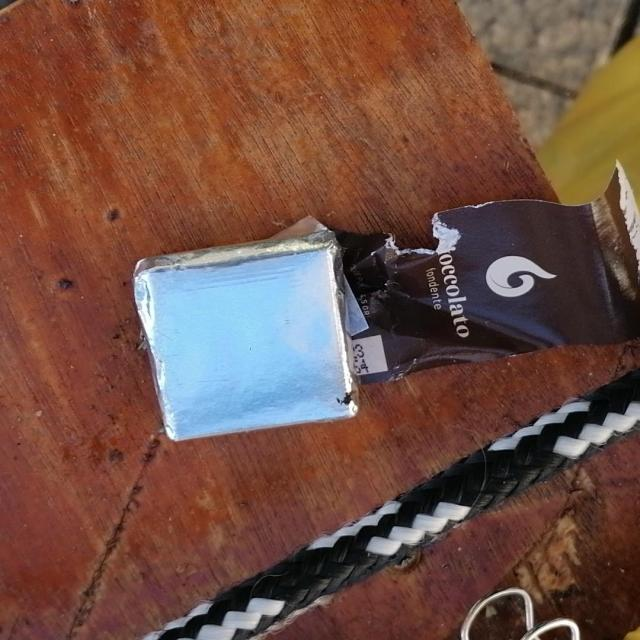Paper: (128, 155, 640, 446)
